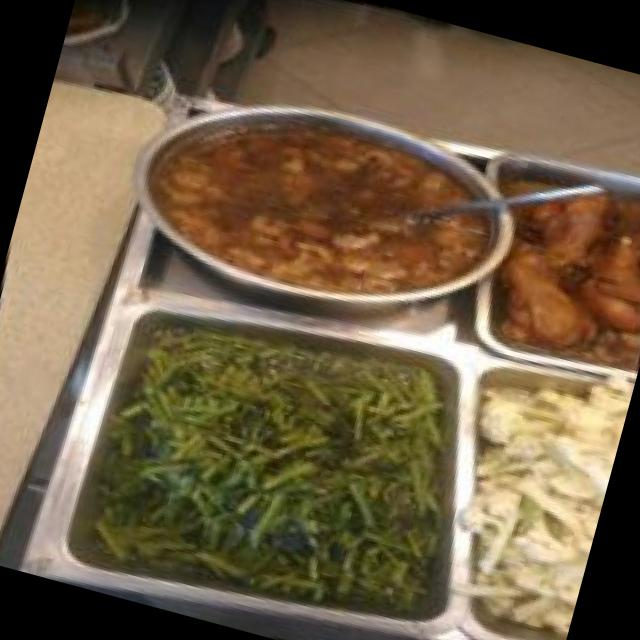water_spinach: (78, 293, 458, 631)
